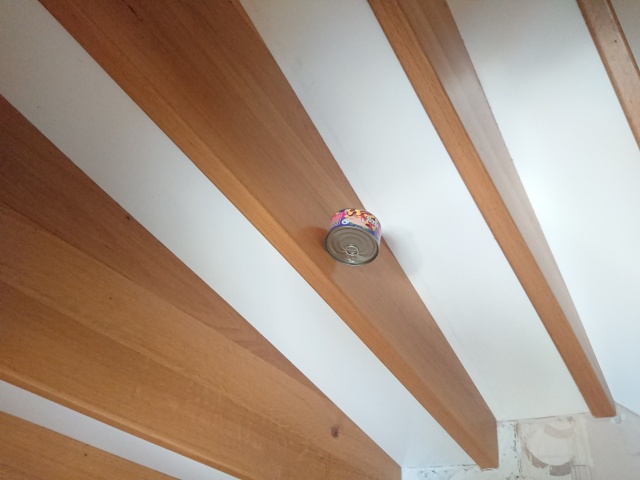Giana Tuna Salad Mexico 185g: (324, 206, 385, 268)
